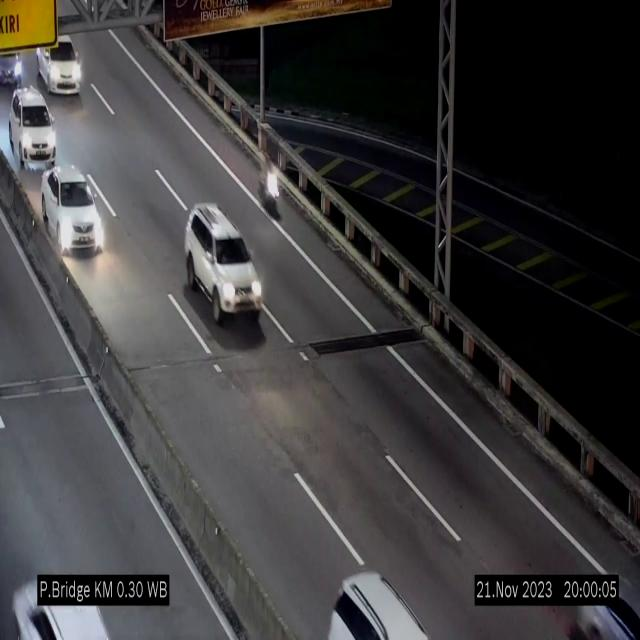Car: (323, 550, 437, 640), (184, 204, 263, 322), (10, 557, 116, 640), (42, 160, 104, 256), (8, 88, 56, 174), (37, 21, 91, 96), (0, 26, 30, 93)
Motorcycle: (257, 148, 281, 226)
